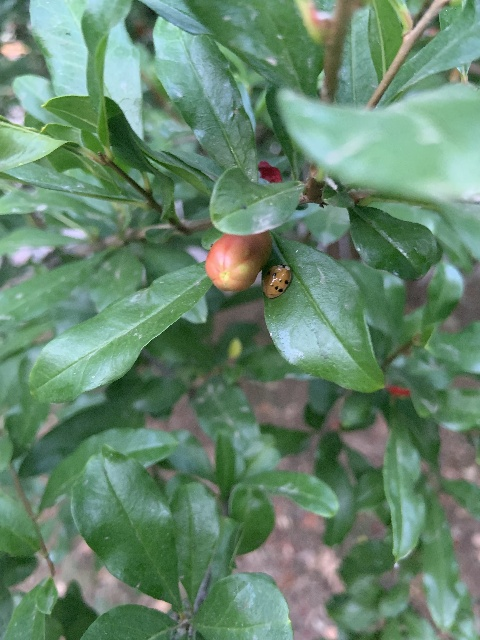bud: (205, 230, 271, 292)
